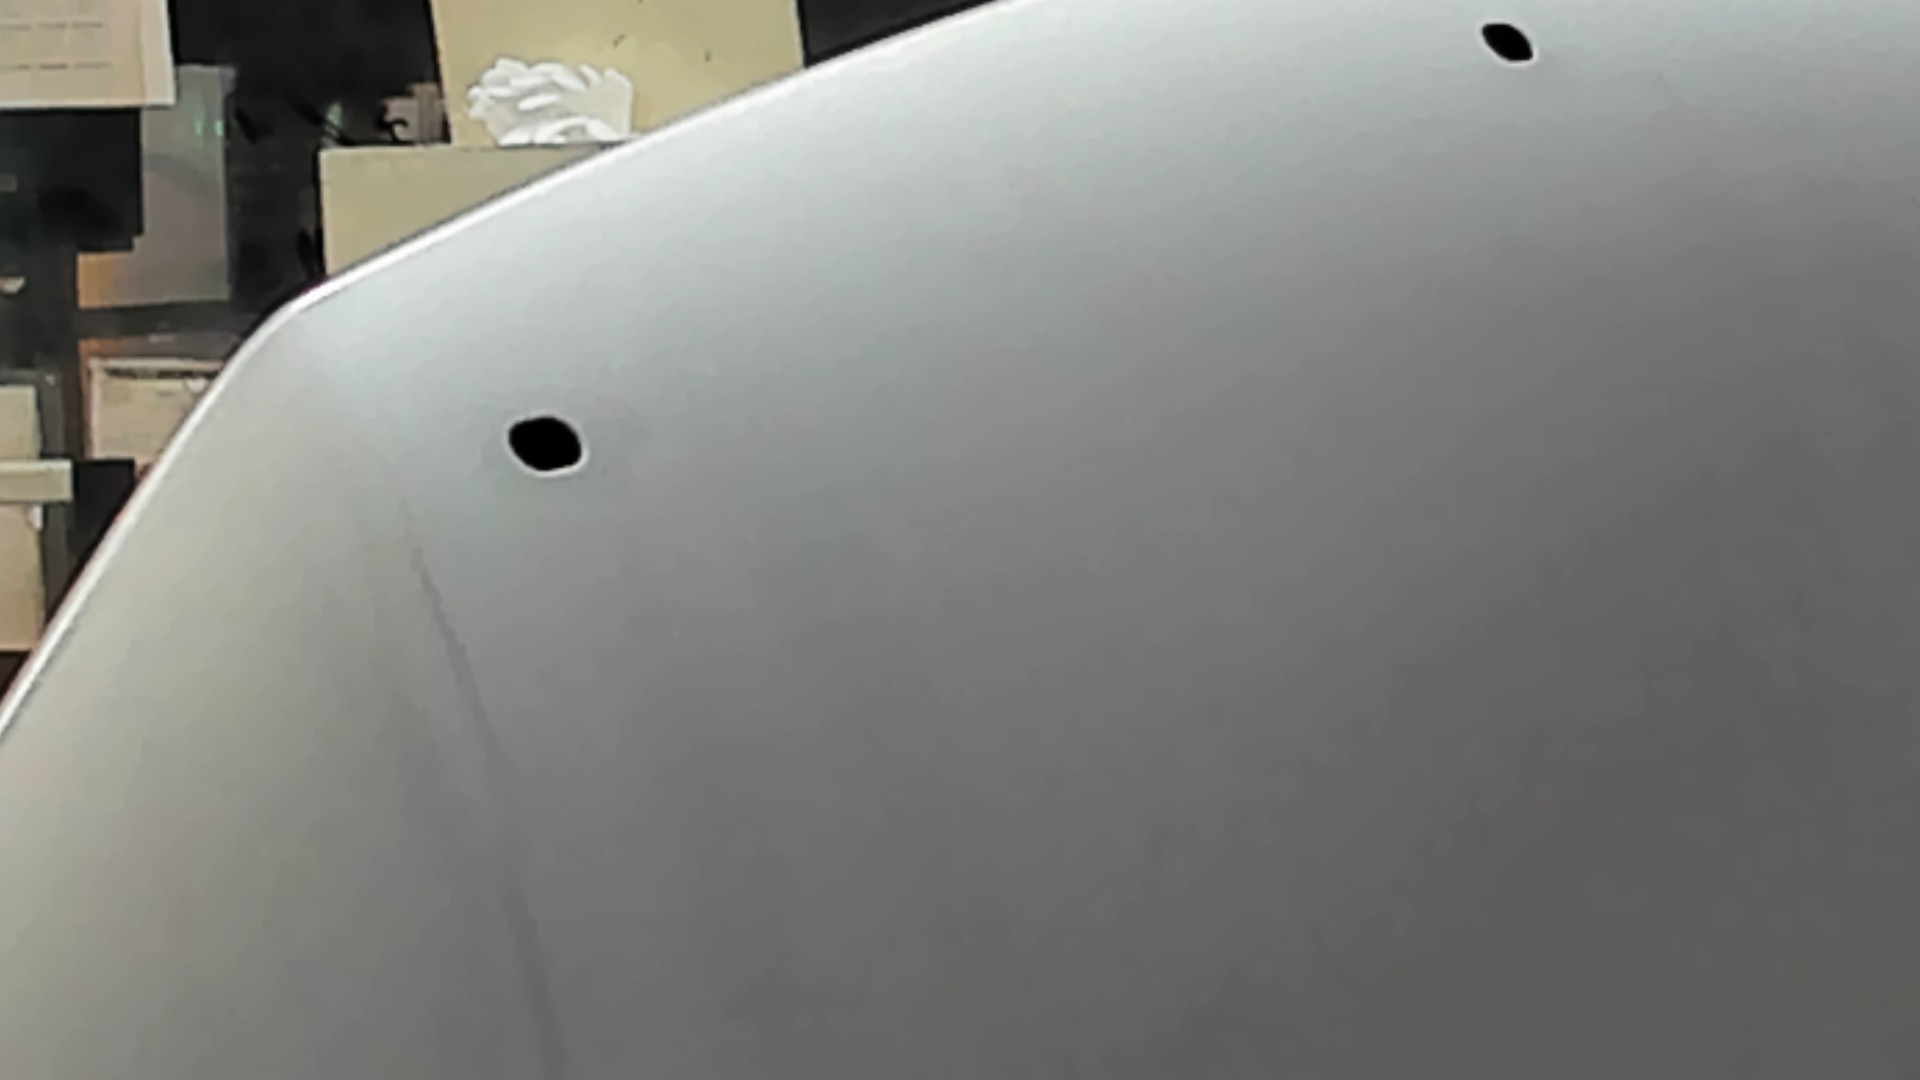Agujero: (501, 410, 592, 479), (1474, 15, 1543, 67)
